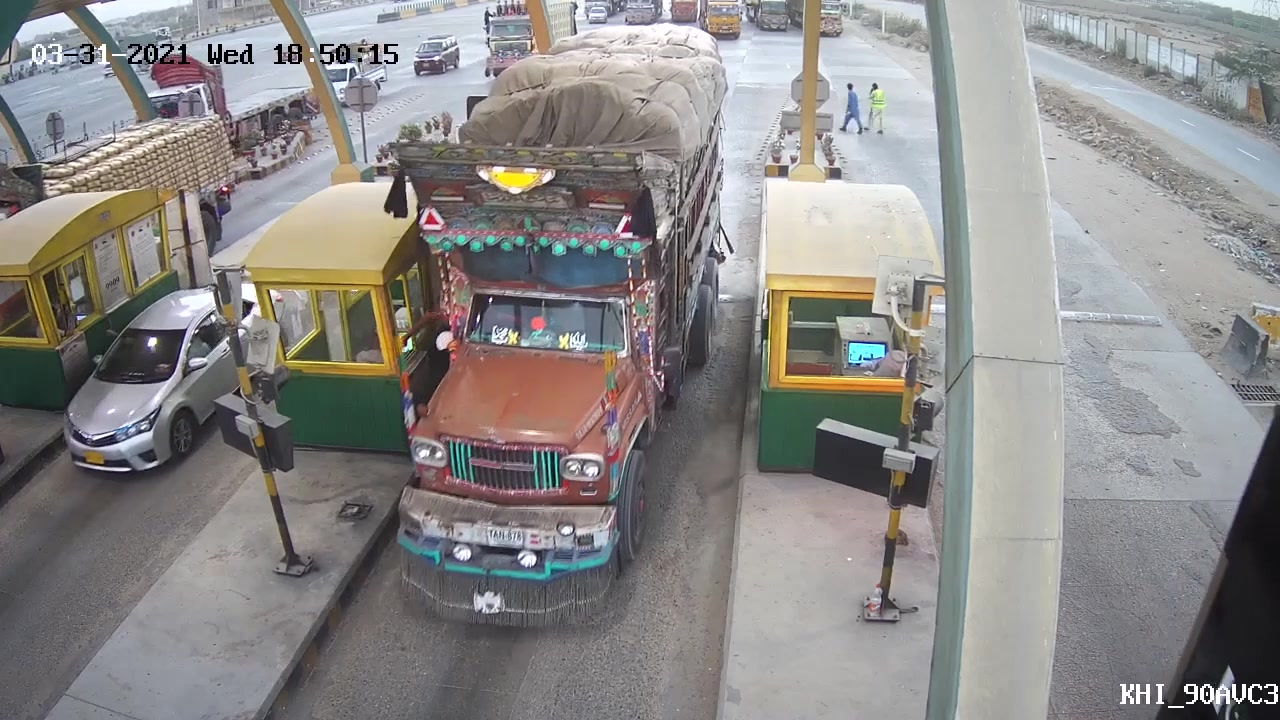F5: (382, 18, 731, 638)
